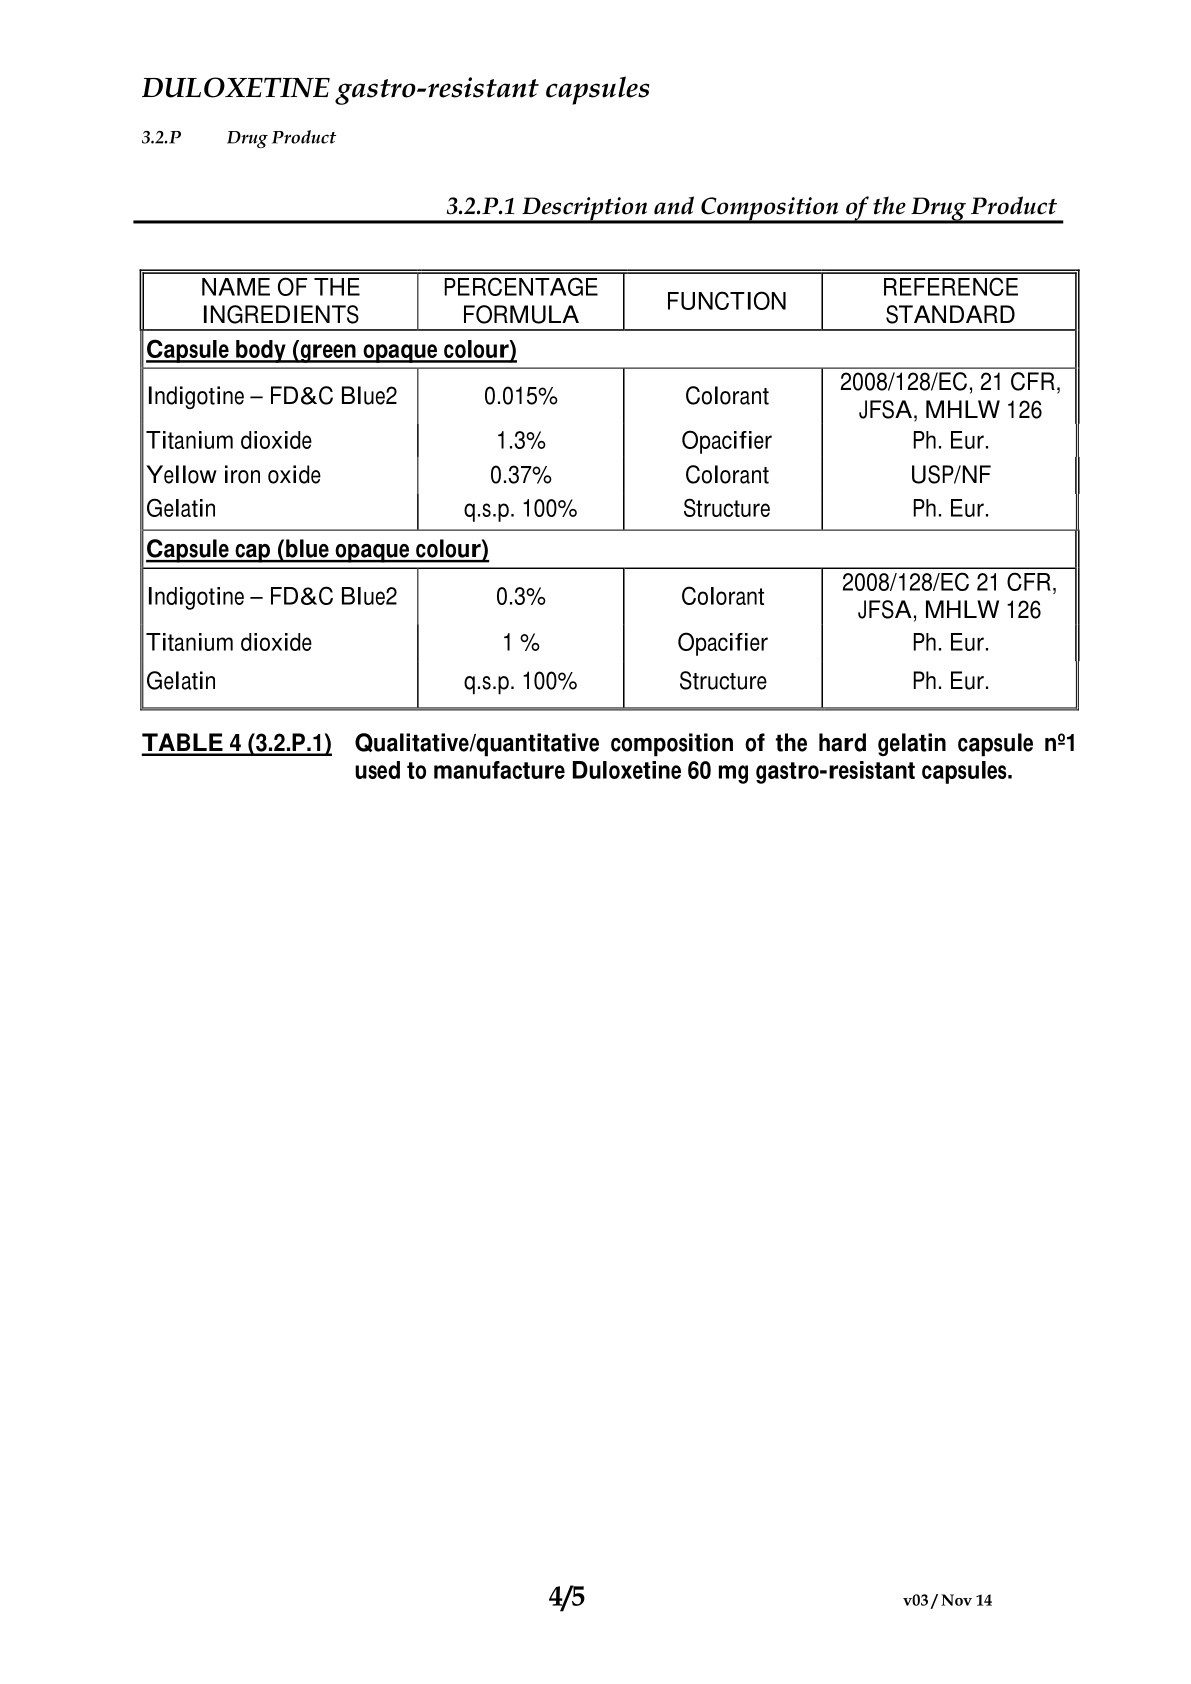merged_cells: (137, 267, 1081, 713)
